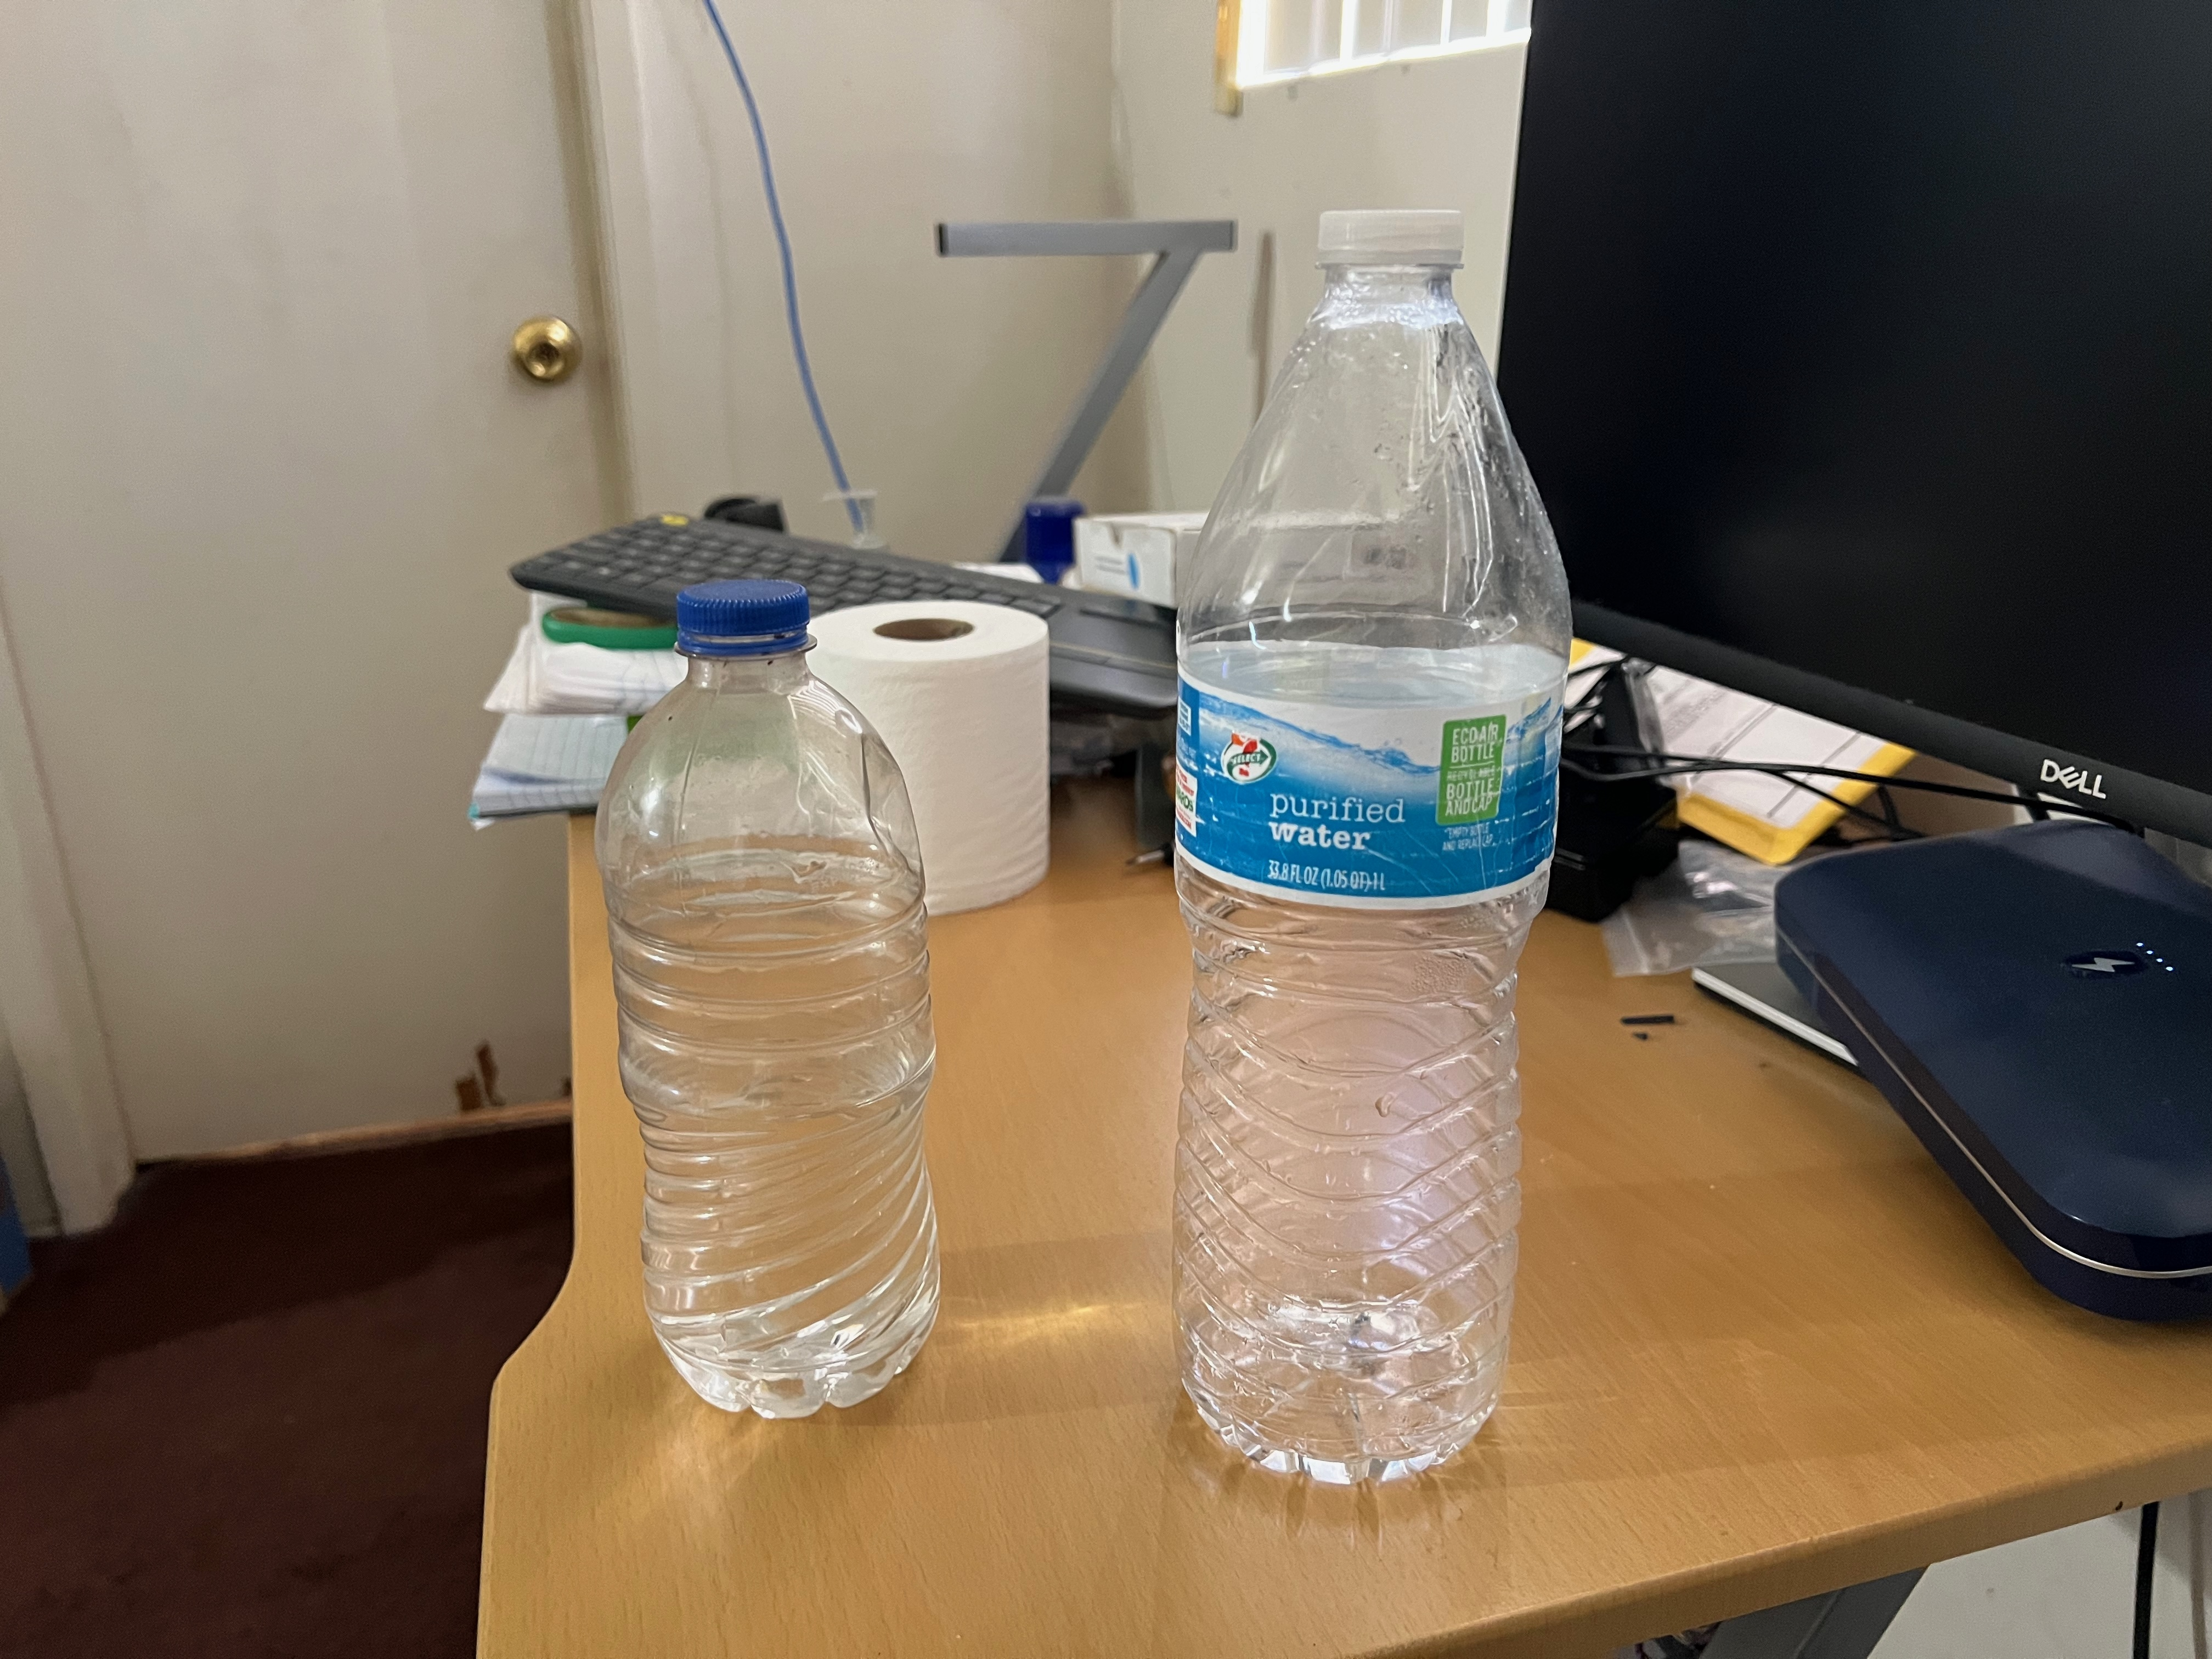trash bottle: (1176, 193, 1580, 1511), (592, 587, 942, 1412)
